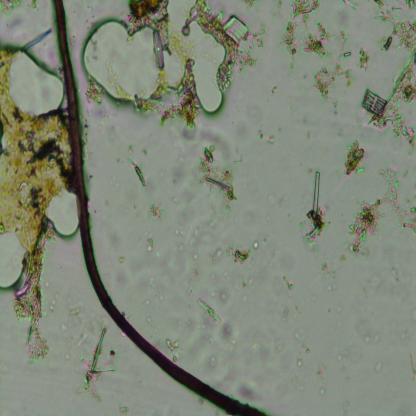Air bubble: (82, 2, 228, 114), (3, 44, 66, 120), (40, 184, 80, 238), (0, 227, 28, 290)
Background material: (0, 47, 77, 363), (365, 49, 416, 156), (134, 58, 200, 127), (339, 193, 383, 263), (80, 323, 115, 401), (377, 166, 416, 235), (374, 0, 416, 53), (214, 40, 257, 90), (200, 142, 236, 195), (183, 125, 233, 158), (313, 62, 353, 100), (300, 208, 330, 258), (277, 20, 301, 74), (304, 21, 335, 62), (195, 295, 228, 329), (205, 245, 253, 268), (124, 152, 153, 189), (0, 0, 44, 21), (23, 25, 52, 52), (214, 319, 237, 350), (345, 140, 365, 175), (161, 332, 184, 362), (333, 30, 354, 61), (290, 0, 320, 21), (356, 320, 380, 346), (176, 226, 199, 252), (236, 380, 262, 402), (319, 261, 337, 291), (217, 191, 240, 214), (359, 275, 380, 299), (146, 198, 166, 222), (84, 79, 104, 103), (251, 22, 268, 50), (186, 262, 201, 293), (250, 340, 272, 361), (314, 362, 326, 396), (386, 259, 402, 284), (329, 345, 350, 363), (281, 275, 294, 300), (358, 46, 369, 72), (272, 0, 284, 21), (408, 352, 416, 382), (248, 107, 262, 124), (240, 0, 258, 13), (240, 274, 254, 290), (342, 0, 360, 12), (292, 377, 305, 392), (295, 351, 305, 368), (118, 401, 132, 413), (146, 236, 156, 252), (331, 99, 339, 118), (374, 359, 384, 374), (219, 291, 230, 304), (306, 130, 316, 144), (301, 340, 311, 354), (274, 339, 284, 353), (266, 134, 277, 146), (209, 355, 217, 371), (168, 194, 180, 204), (256, 127, 264, 141), (281, 306, 290, 318), (252, 239, 260, 251), (209, 204, 218, 214), (294, 306, 302, 317), (157, 290, 165, 301), (117, 256, 126, 264), (271, 85, 278, 95), (146, 314, 152, 325), (192, 252, 200, 260), (144, 299, 151, 307), (412, 309, 416, 323), (133, 203, 137, 210), (326, 308, 332, 312)
Cotton: (50, 0, 268, 416)
Diatom: (360, 87, 390, 119), (224, 12, 251, 46), (152, 27, 164, 71), (312, 171, 322, 216)
